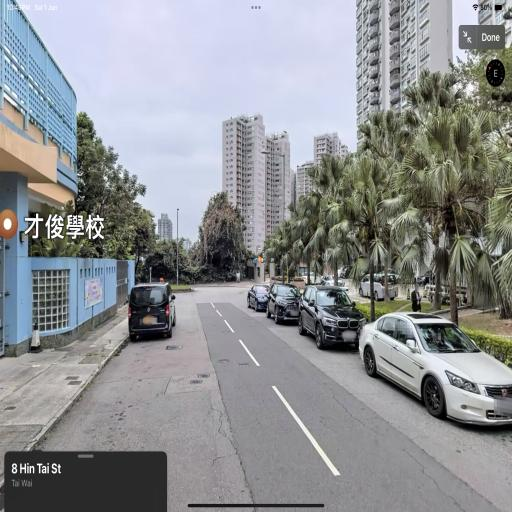Roads: (49, 279, 505, 488)
Trees: (261, 100, 512, 331), (65, 99, 178, 295)
